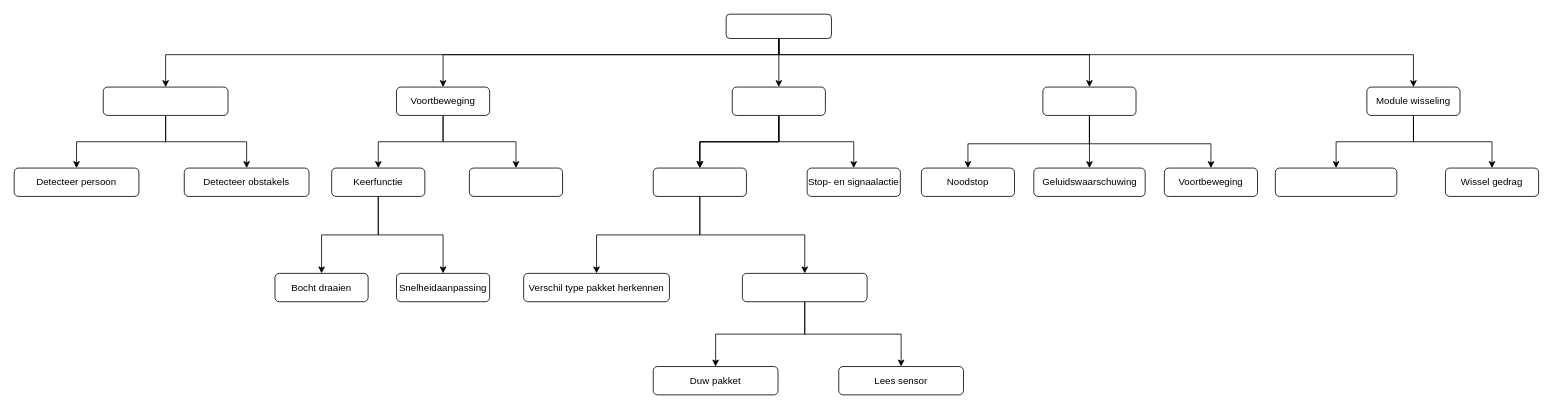
This 1553x409 diagram has some shape labels left out. The shapes that lost their labels are listed below. From the top down, each one's centre as x and y in pixels, then its label:
point (778, 25): AGV Robot
point (165, 100): Volg persoon
point (778, 100): Pakketdetectie
point (1089, 100): Veiligheid
point (516, 181): Navigatie
point (699, 181): Pakketscannen
point (1336, 181): Herken modulewisseling
point (804, 287): Pakket gewicht detecteren
